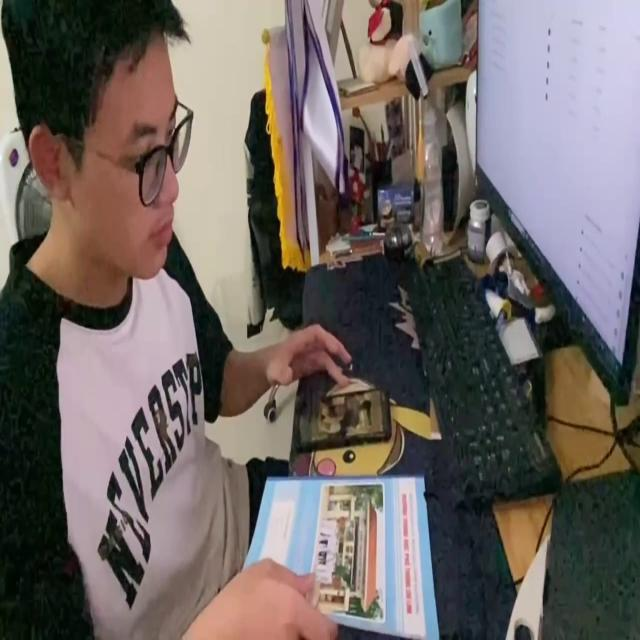book: (235, 470, 438, 640)
laptop: (472, 5, 640, 416)
phone: (291, 387, 393, 452)
student: (1, 0, 350, 640)
